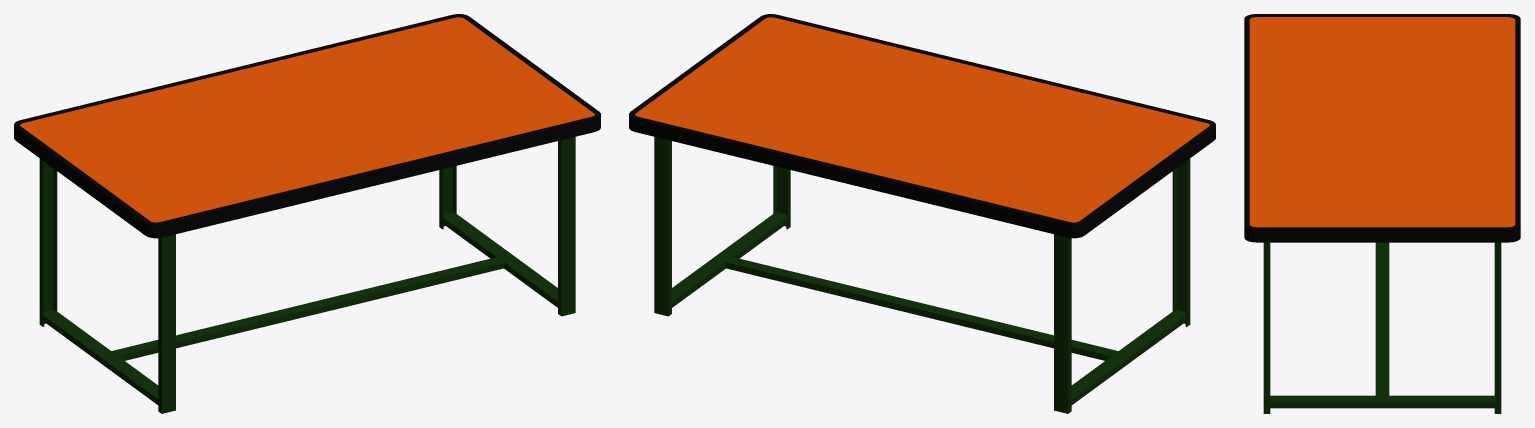
File: modern_pc_table_3d_model.glb
The picture shows the model from 3 angles, left to right: view 1: azimuth 30°, elevation 25°; view 2: azimuth 150°, elevation 25°; view 3: azimuth 270°, elevation 25°; orthographic projection. The views are drawn at different scales.
Visible parts, largest first — view 1: Plane, Cube.001, Plane.001; view 2: Plane, Cube.001, Plane.001; view 3: Plane, Cube.001, Plane.001.
Part boxes in pixels (x1=…): Plane: x1=20, y1=17, x2=594, y2=222; Cube.001: x1=39, y1=137, x2=575, y2=413; Plane.001: x1=14, y1=14, x2=600, y2=238; Plane: x1=635, y1=17, x2=1209, y2=222; Cube.001: x1=654, y1=137, x2=1190, y2=413; Plane.001: x1=629, y1=14, x2=1215, y2=238; Plane: x1=1249, y1=17, x2=1515, y2=227; Cube.001: x1=1263, y1=242, x2=1501, y2=413; Plane.001: x1=1244, y1=14, x2=1520, y2=242.
Size of the model in its own units: 10.9 by 4.57 by 5.91.
